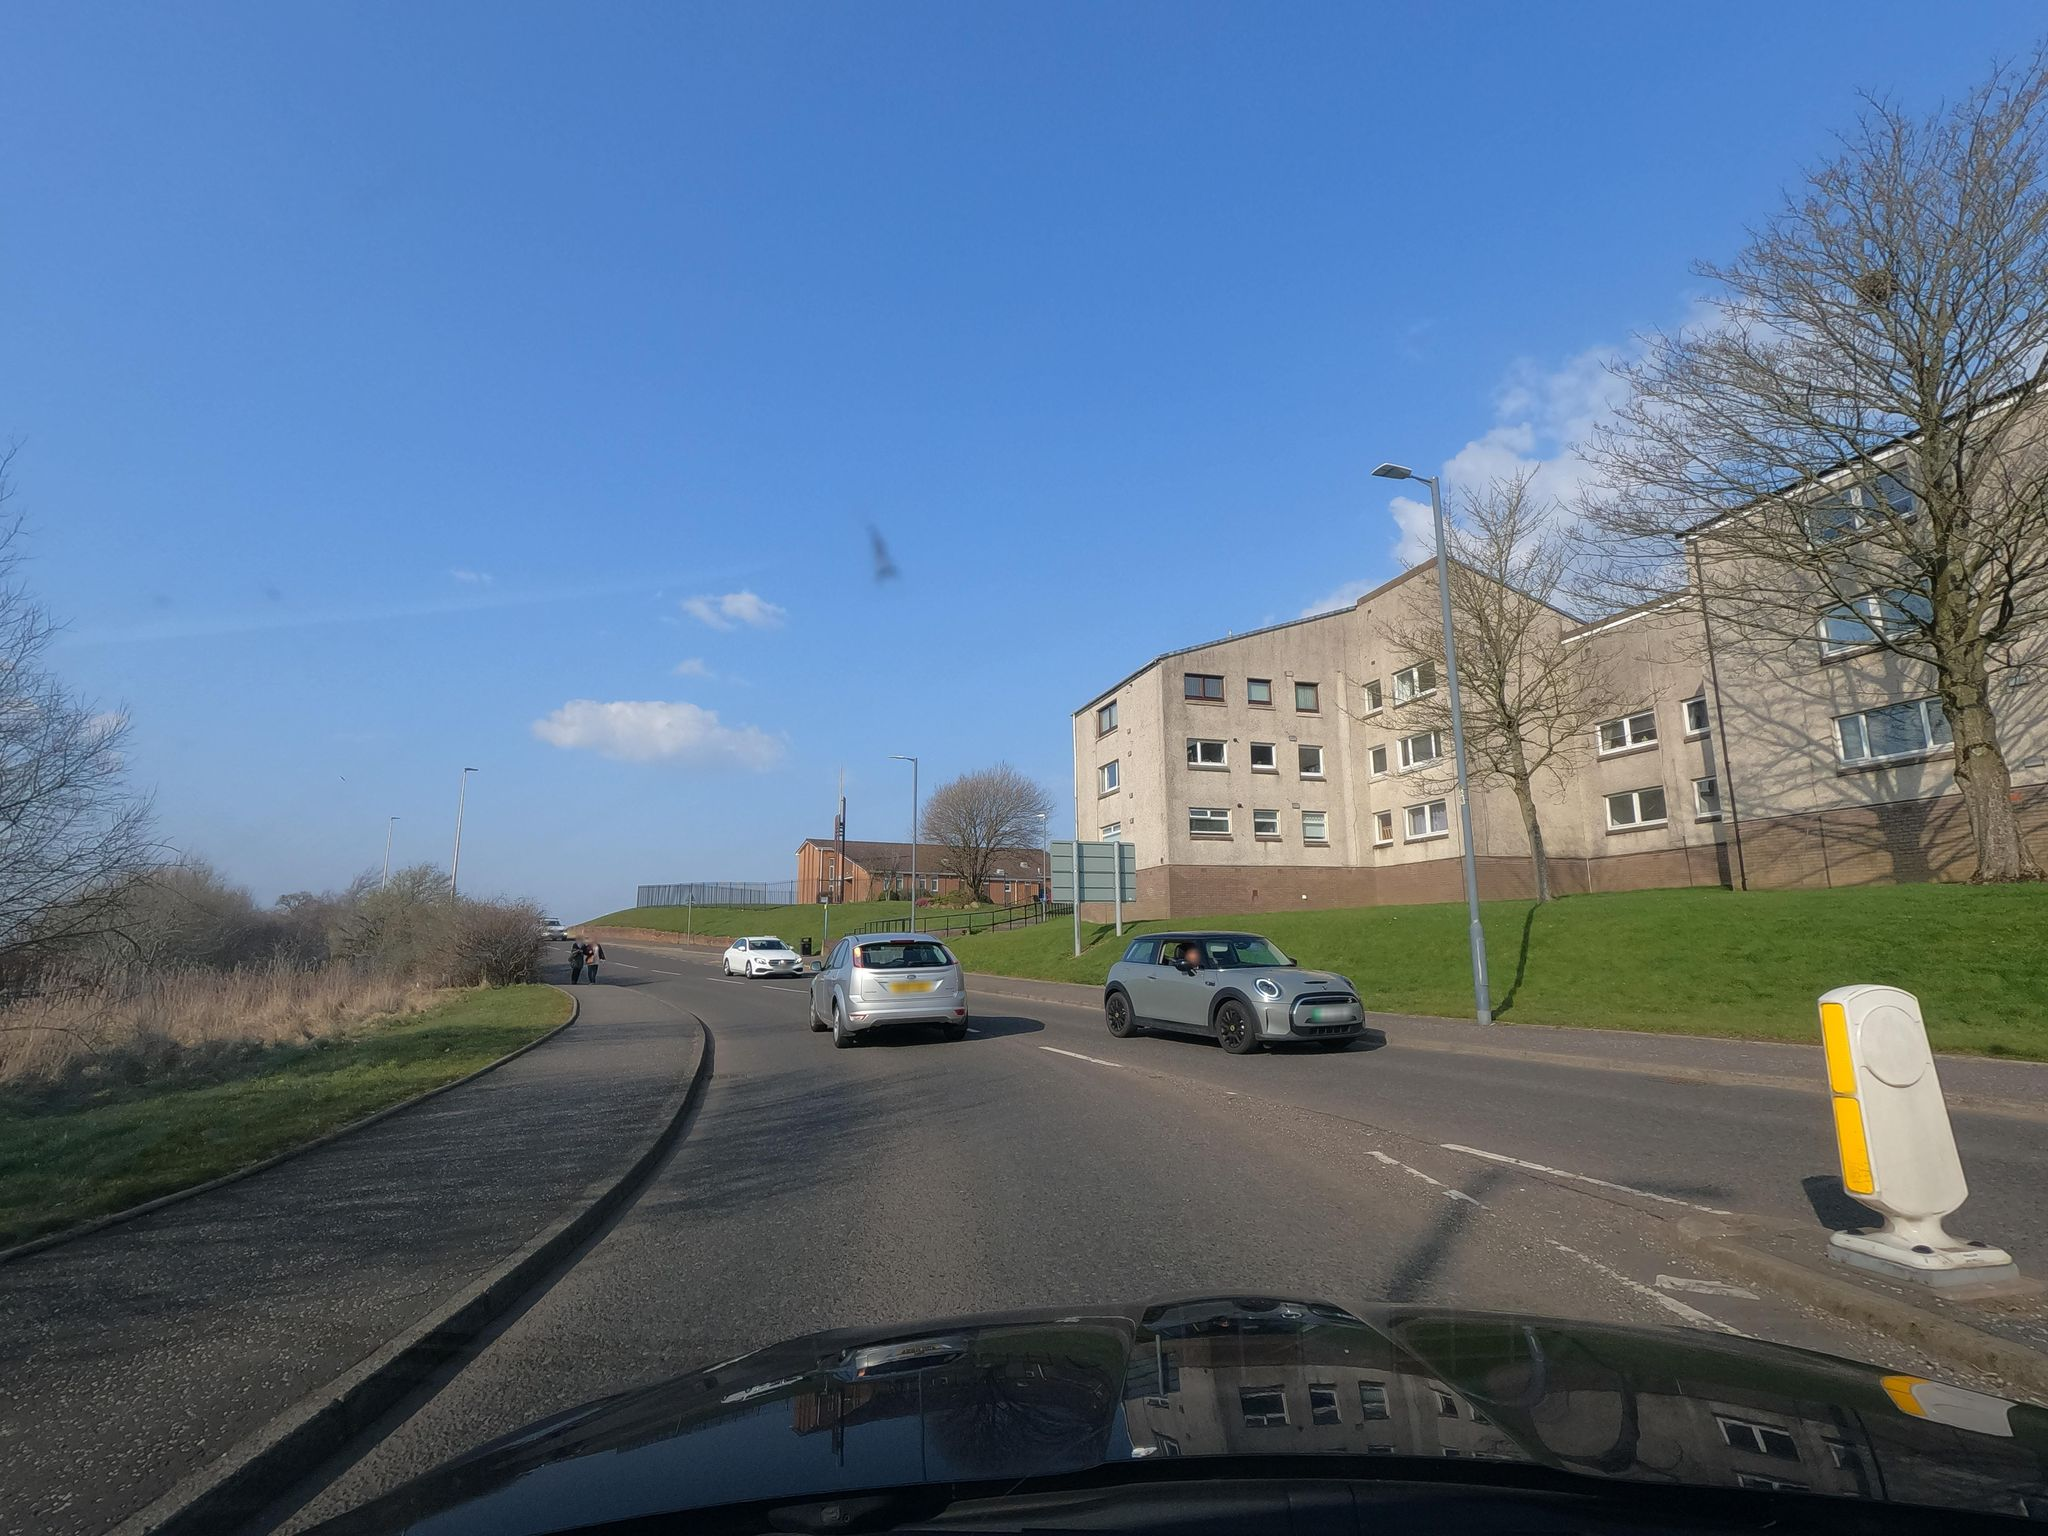car: (1101, 931, 1366, 1055), (806, 933, 969, 1047), (721, 936, 805, 978), (537, 916, 568, 941)
